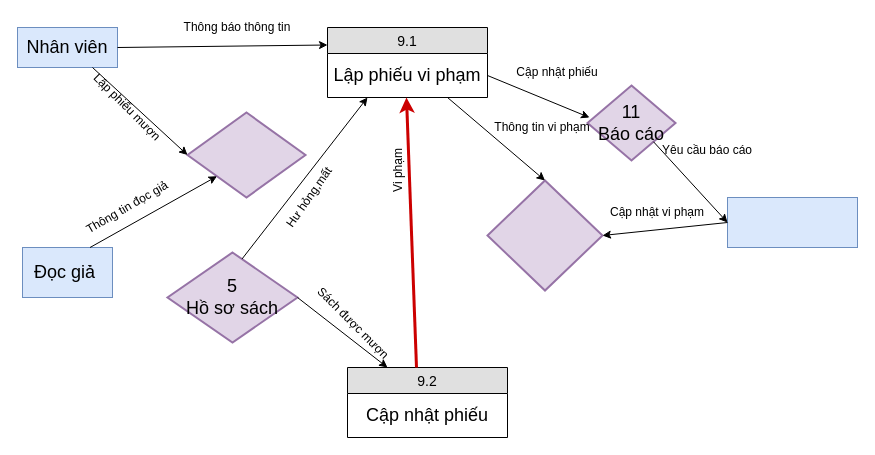
Some shapes in this 875 by 455 pixel diagram are drawn without their labels. The shapes that lost their labels are listed below. From the top down, each one's centre as x and y in pixels, then its label:
At point (246, 154): "4 Hồ sơ mượn trả".
At point (544, 235): "8 Biên bản xử lý".
At point (792, 222): "LĐ nhà trường".
